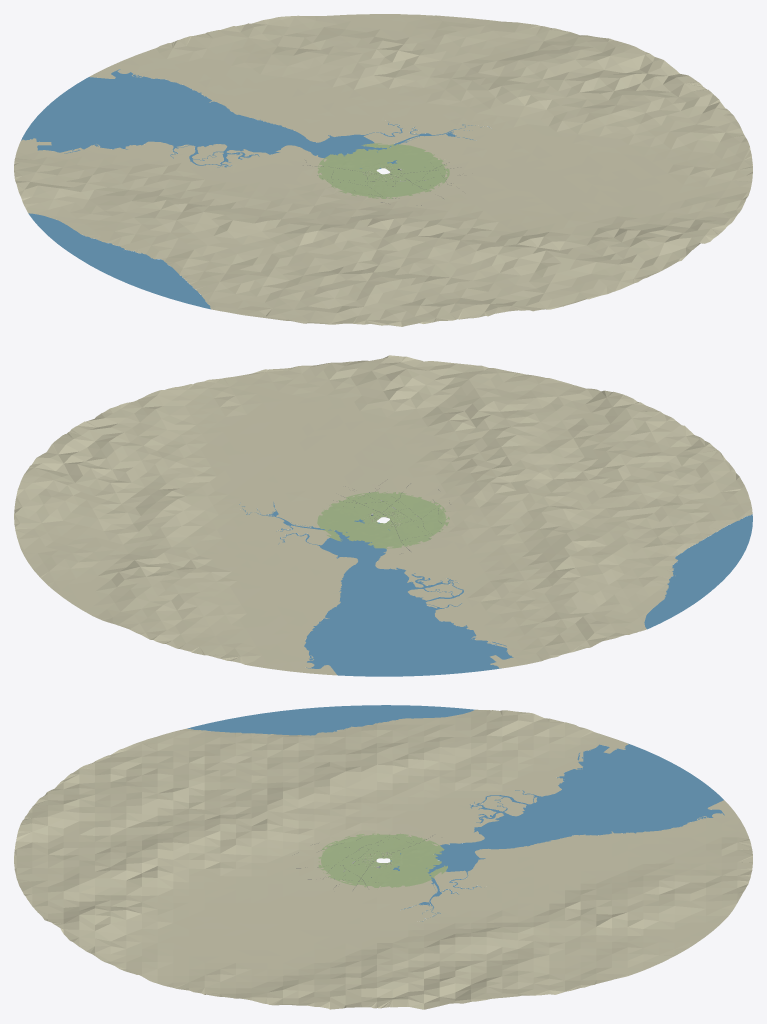
Rendered from backdrop.glb.
3 views of the same model, one above another, from view 1: azimuth 30°, elevation 25°; view 2: azimuth 150°, elevation 25°; view 3: azimuth 270°, elevation 25° (orthographic).
Visible parts, largest first — view 1: backdrop_horizon_land, backdrop_horizon_water, backdrop_terrain_grass; view 2: backdrop_horizon_land, backdrop_horizon_water, backdrop_terrain_grass; view 3: backdrop_horizon_land, backdrop_horizon_water, backdrop_terrain_grass.
Part boxes in pixels (x1,y1,x2,y2): backdrop_horizon_land: [14, 14, 752, 326]; backdrop_horizon_water: [21, 69, 489, 309]; backdrop_terrain_grass: [317, 143, 449, 198]; backdrop_horizon_land: [14, 355, 752, 675]; backdrop_horizon_water: [239, 502, 752, 676]; backdrop_terrain_grass: [317, 491, 449, 548]; backdrop_horizon_land: [14, 709, 752, 1009]; backdrop_horizon_water: [187, 705, 724, 921]; backdrop_terrain_grass: [318, 833, 447, 887].
Size of the model in its own units: 70469 by 1149 by 70756.
